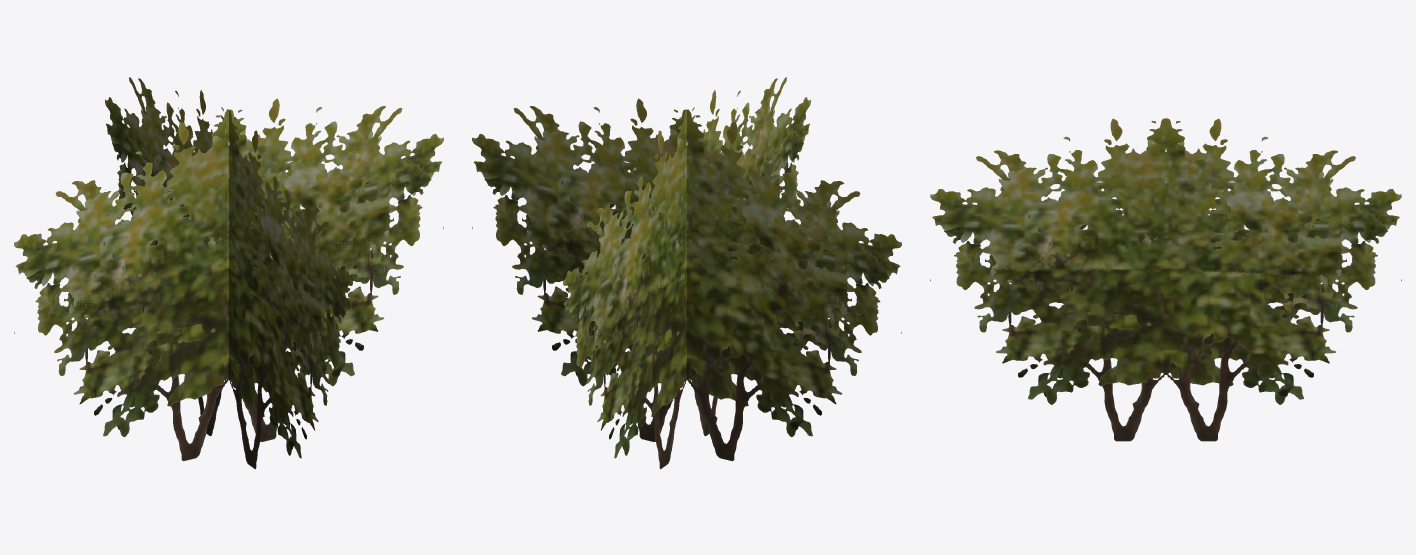
Rendered from poison_ivy_2.FBX.
3 views of the same model, side by side, from view 1: azimuth 30°, elevation 25°; view 2: azimuth 150°, elevation 25°; view 3: azimuth 270°, elevation 25° (orthographic). The views are drawn at different scales.
Parts seen in each view (by area): view 1: poison_ivy_2; view 2: poison_ivy_2; view 3: poison_ivy_2.
Boxes of the visible parts, <box> form: poison_ivy_2: <box>14,77,443,469</box>; poison_ivy_2: <box>472,77,901,469</box>; poison_ivy_2: <box>930,118,1401,441</box>.
Size of the model in its own units: 140 by 107 by 140.
